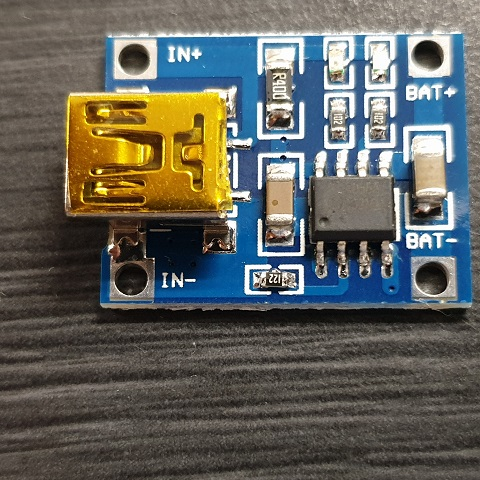batt+: (409, 34, 456, 78)
batt-: (414, 258, 456, 300)
charge: (322, 34, 360, 87)
done: (353, 38, 385, 90)
rprog: (249, 267, 300, 294)
usb: (58, 95, 220, 216)
